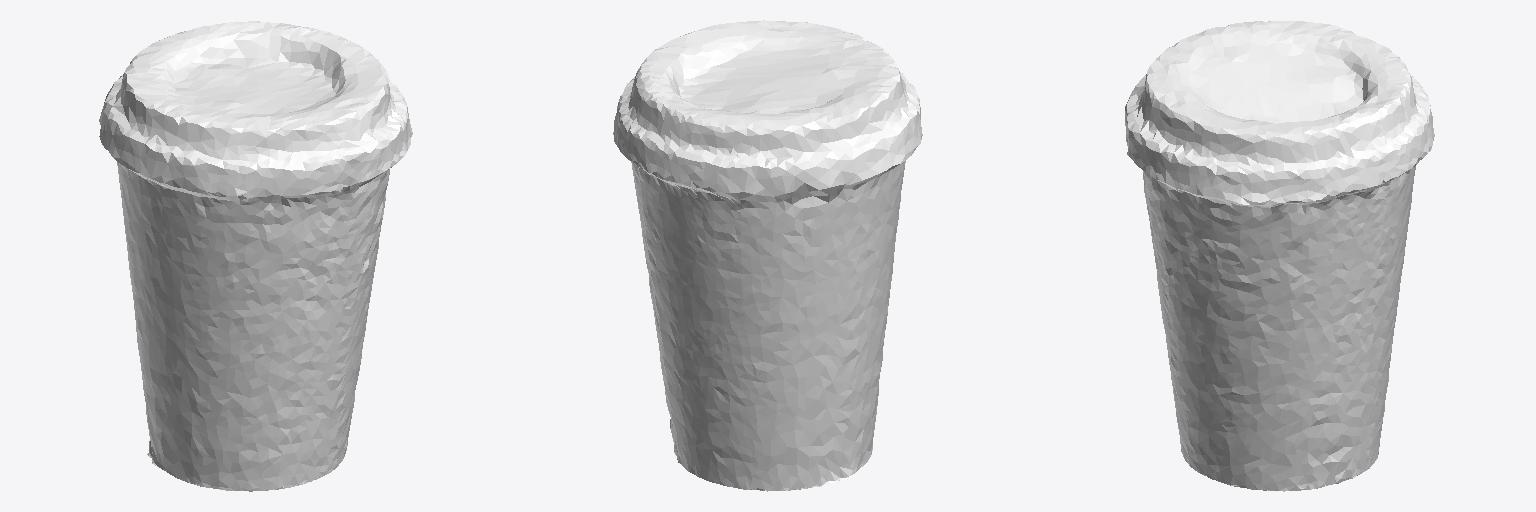
The robot description file, URDF, robot "coffeecup":
<?xml version="1.0" ?>
<robot name="coffeecup">
 <link name="baseLink">
   <contact>
     <lateral_friction value="2.0"/>
   </contact>
   <inertial>
     <origin rpy="0 0 0" xyz="-0.002131 -0.001108 -0.003478"/>
      <mass value="1.0"/>
      <inertia ixx="0.000001" ixy="0.000000" ixz="-0.000000" iyy="0.000001" iyz="0.000000" izz="0.000000"/>
   </inertial>
   <visual>
     <origin rpy="0 0 0" xyz="0 0 0"/>
     <geometry>
       <mesh filename="coffeecup.obj" scale="1.0 1.0 1.0"/>
     </geometry>
      <material name="white">
       <color rgba="1 1 1 1"/>
     </material>
   </visual>
   <collision>
     <origin rpy="0 0 0" xyz="0 0 0"/>
     <geometry>
       <mesh filename="coffeecup_vhacd2.obj" scale="1.0 1.0 1.0"/>
     </geometry>
   </collision>
 </link>
</robot>

--- Render facts (derived) ---
The picture shows the robot from 3 angles, left to right: view 1: azimuth 30°, elevation 25°; view 2: azimuth 150°, elevation 25°; view 3: azimuth 270°, elevation 25°; orthographic projection.
Model coffeecup with 1 links and 0 joints (none), rooted at baseLink, posed every joint at zero.
Links seen in each view (by area): view 1: baseLink; view 2: baseLink; view 3: baseLink.
Link boxes in pixels (bbox=[...]): baseLink: bbox=[99, 21, 412, 491]; baseLink: bbox=[613, 20, 922, 491]; baseLink: bbox=[1125, 21, 1434, 491].
Bounding box of the posed robot: 0.0917 × 0.0893 × 0.1204 m (x, y, z).
1 mesh visuals loaded from 1 distinct referenced files (1 OBJ).